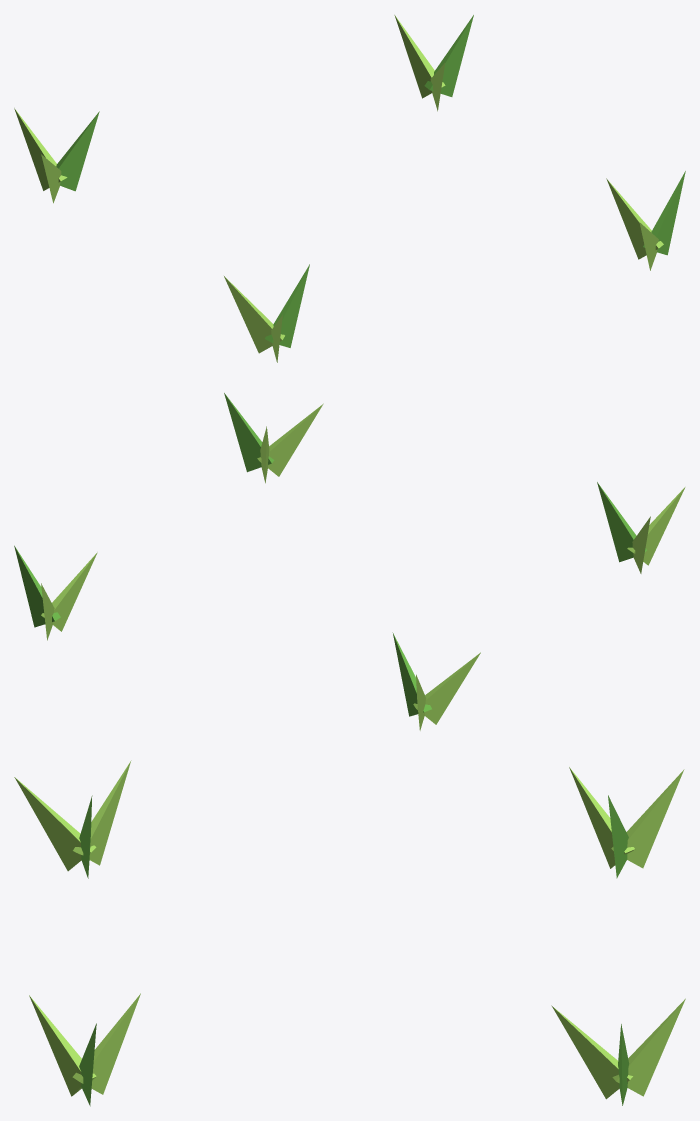
File: tomato-1.glb
3 renders of one model, top to bottom at view 1: azimuth 30°, elevation 25°; view 2: azimuth 150°, elevation 25°; view 3: azimuth 270°, elevation 25°, orthographic. The views are drawn at different scales.
Parts seen in each view (by area): view 1: tomato-1; view 2: tomato-1; view 3: tomato-1.
Boxes of the visible parts, x1,y1,x2,y2 form: tomato-1: (14,15,685,362); tomato-1: (14,393,685,730); tomato-1: (14,760,685,1106).
Bounding box in the file's own units: 0.4805 × 0.0837 × 0.4991.
1 material, 1 textured.
